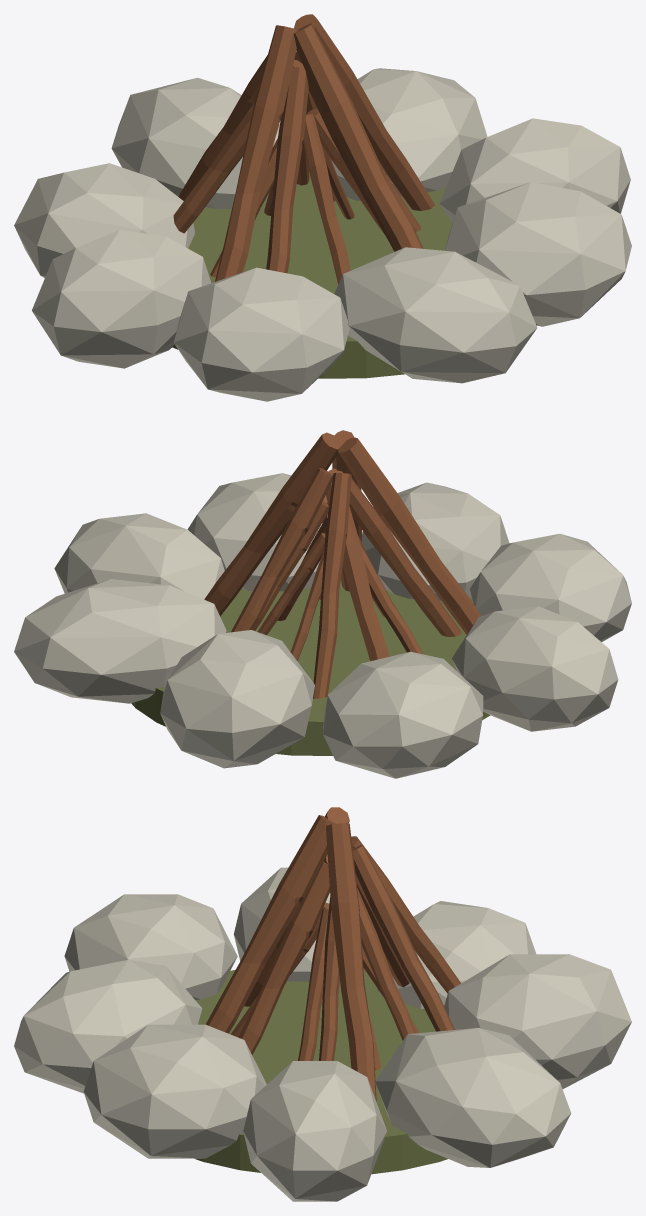
File: Campfire_01.fbx
3 views of the same model, one above another, from view 1: azimuth 30°, elevation 25°; view 2: azimuth 150°, elevation 25°; view 3: azimuth 270°, elevation 25° (orthographic). The views are drawn at different scales.
Parts seen in each view (by area): view 1: Stones, FireWood, Circle; view 2: Stones, FireWood, Circle; view 3: Stones, FireWood, Circle.
Part boxes in pixels (box(x1,y1,x2,y2)): Stones: box(14, 68, 631, 401); FireWood: box(173, 14, 434, 284); Circle: box(172, 172, 537, 378); Stones: box(14, 473, 631, 778); FireWood: box(204, 430, 481, 698); Circle: box(131, 579, 490, 755); Stones: box(14, 867, 631, 1201); FireWood: box(205, 807, 460, 1101); Circle: box(194, 968, 447, 1174).
Bounding box in the file's own units: 76.41 × 35.34 × 72.85.
